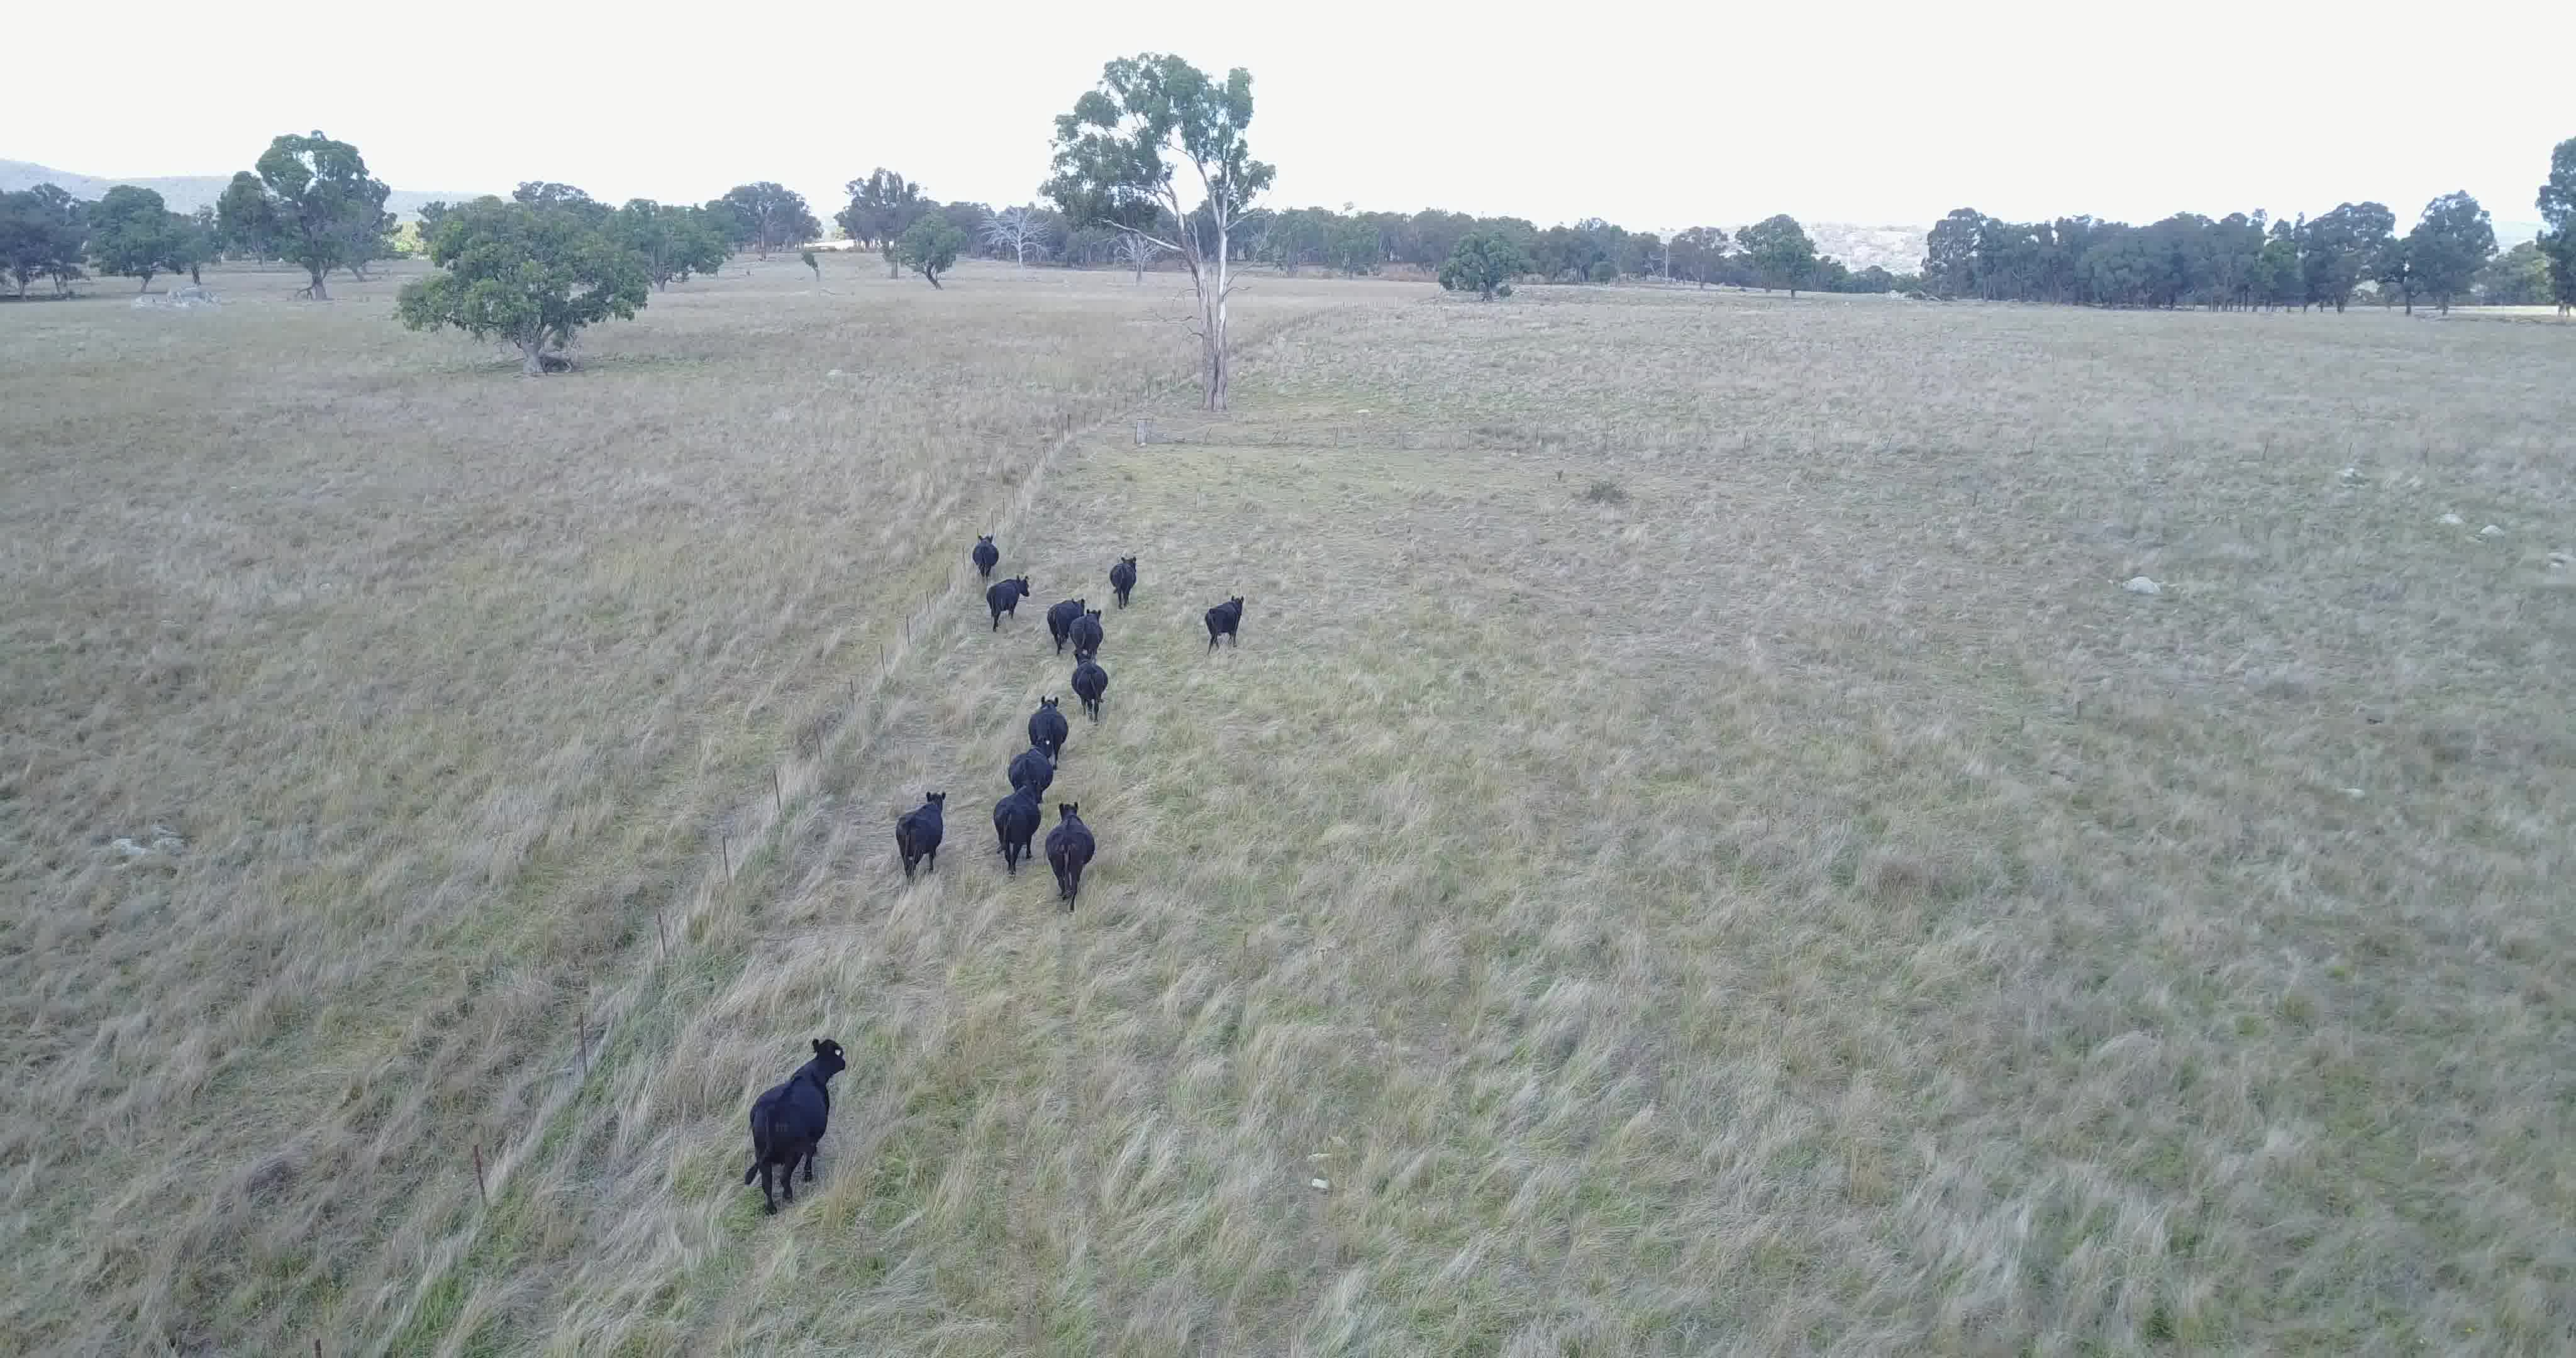cattle: (726, 1027, 854, 1215), (1044, 799, 1095, 912), (894, 789, 947, 895), (992, 779, 1043, 881), (1196, 591, 1249, 658), (1027, 693, 1072, 767), (1007, 734, 1053, 797), (983, 576, 1031, 630), (1046, 595, 1082, 651), (1107, 554, 1140, 608), (1073, 607, 1107, 658), (971, 532, 1002, 579)
